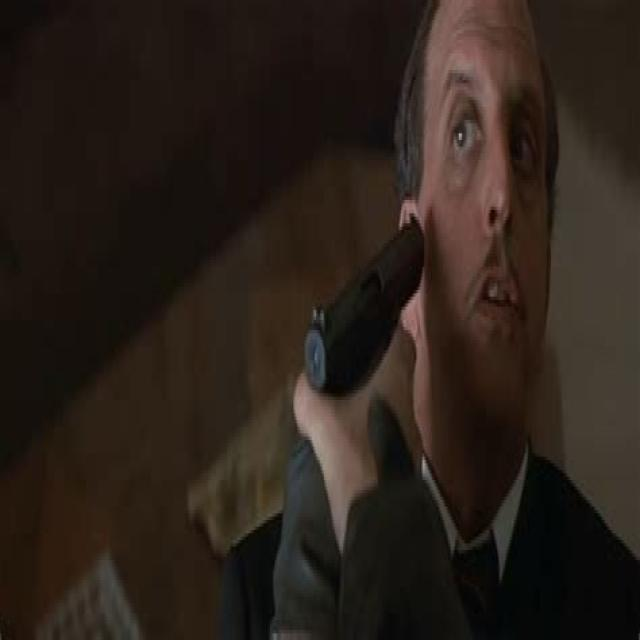weapons: (279, 176, 437, 504)
